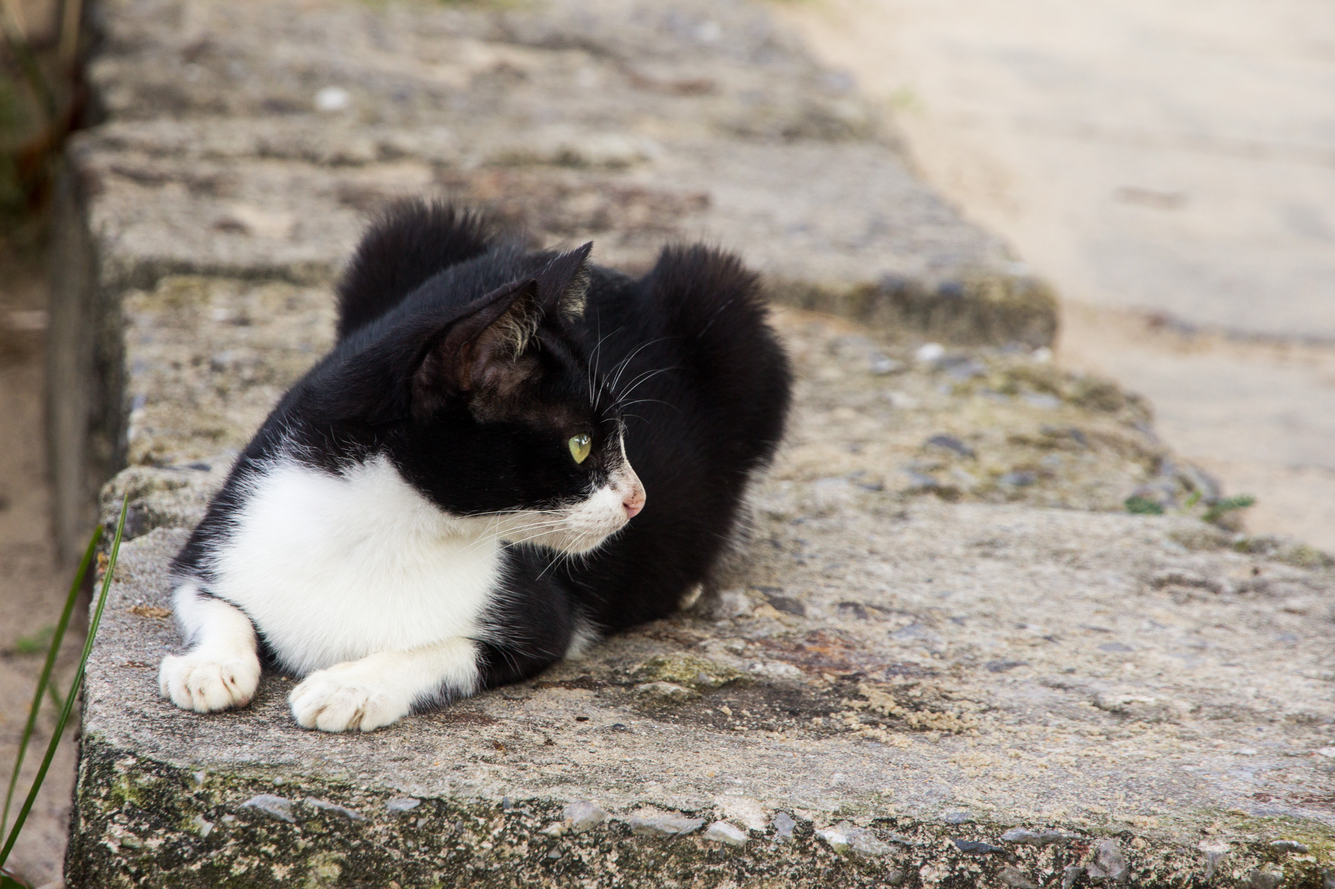cat: (152, 180, 798, 740)
